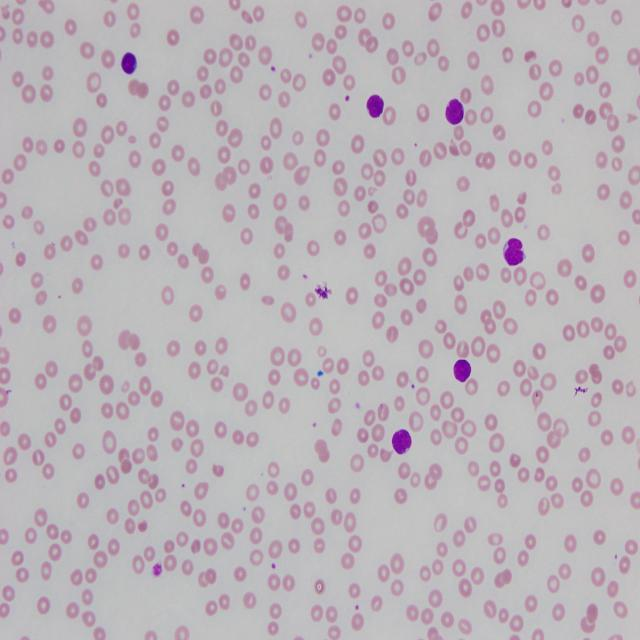cell: (504, 238, 525, 265), (445, 98, 464, 125), (392, 430, 411, 454), (366, 95, 384, 118), (121, 52, 138, 75), (454, 360, 471, 382)
